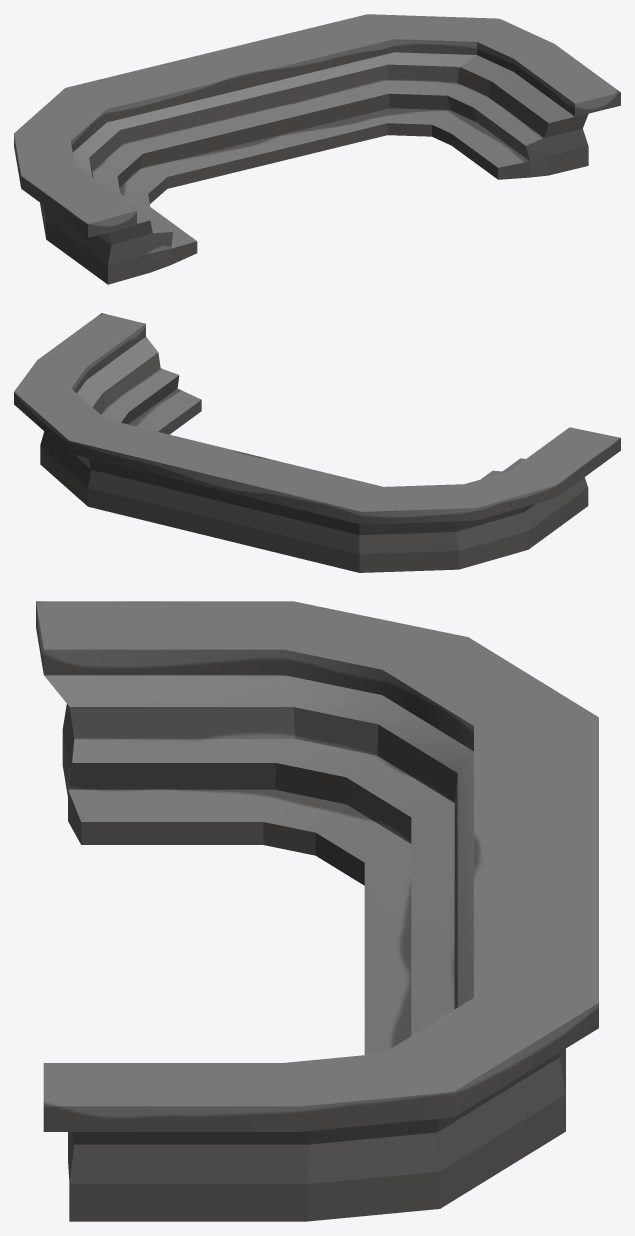
File: GRADAS.fbx
3 renders of one model, top to bottom at view 1: azimuth 30°, elevation 25°; view 2: azimuth 150°, elevation 25°; view 3: azimuth 270°, elevation 25°, orthographic. The views are drawn at different scales.
Parts seen in each view (by area): view 1: gRADAS; view 2: gRADAS; view 3: gRADAS.
Boxes of the visible parts, x1,y1,x2,y2 form: gRADAS: (14,14,620,284); gRADAS: (14,313,620,572); gRADAS: (36,601,598,1221).
Size of the model in its own units: 962 by 124 by 453.
